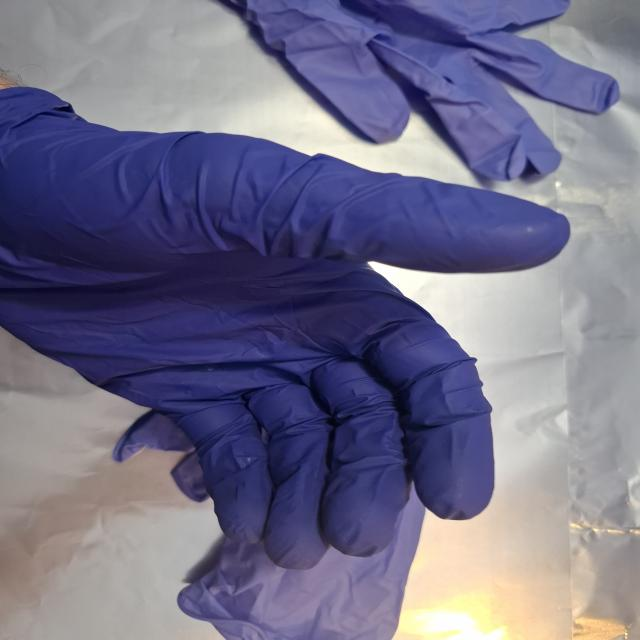glove_on: (0, 84, 578, 571)
